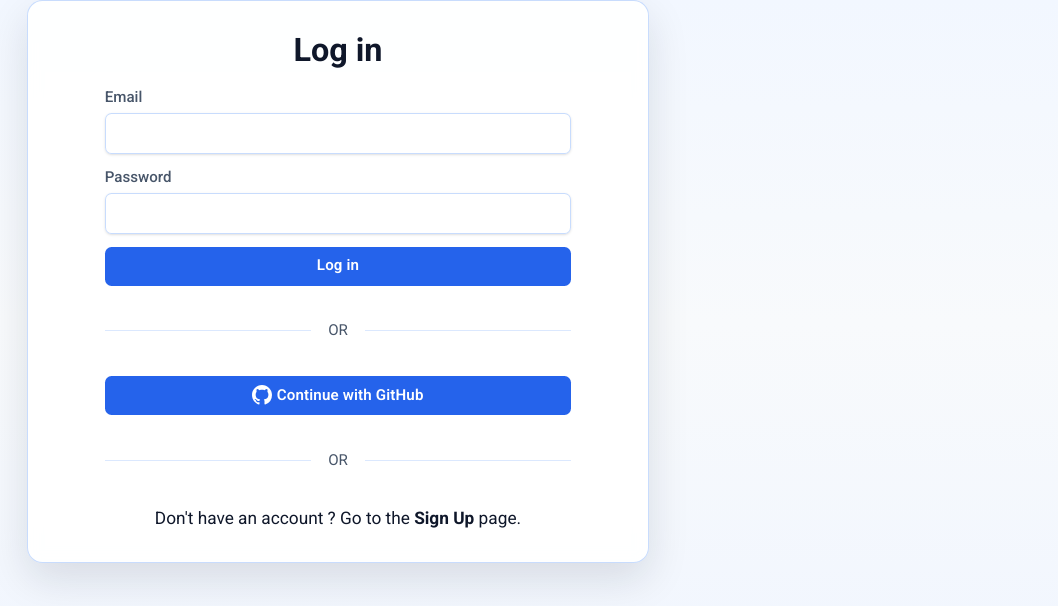
Test: LogIn Form Submit › Shows error message after clicking Create when fetching with wrong email/password
Type "existing@user.com" into the field labelled "Email" at [338, 134], box [105,113,571,154]
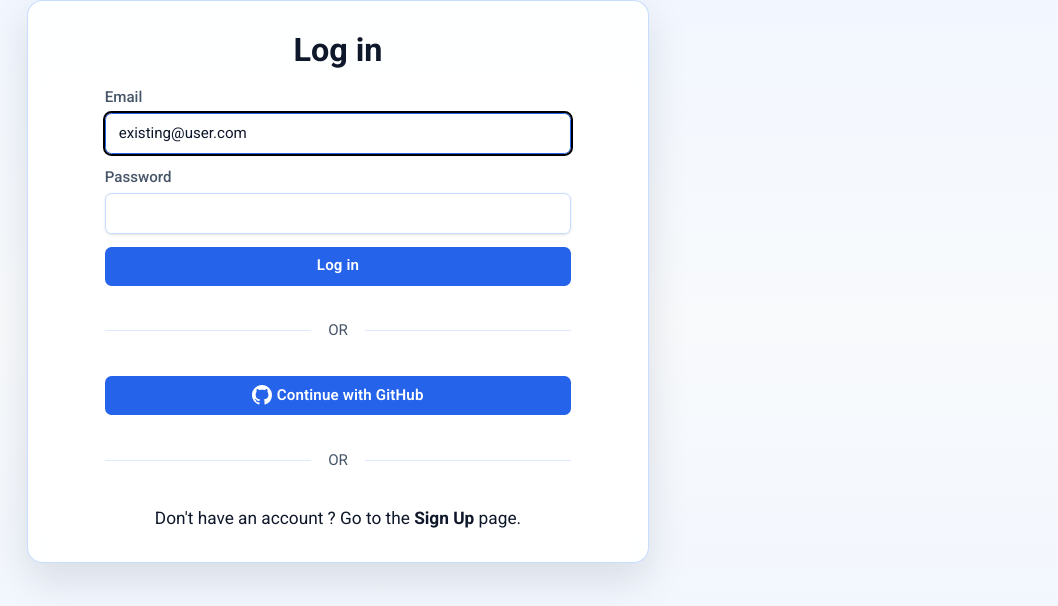
Type "Password123!" into the password field labelled "Password" at [338, 213], box [105,193,571,234]
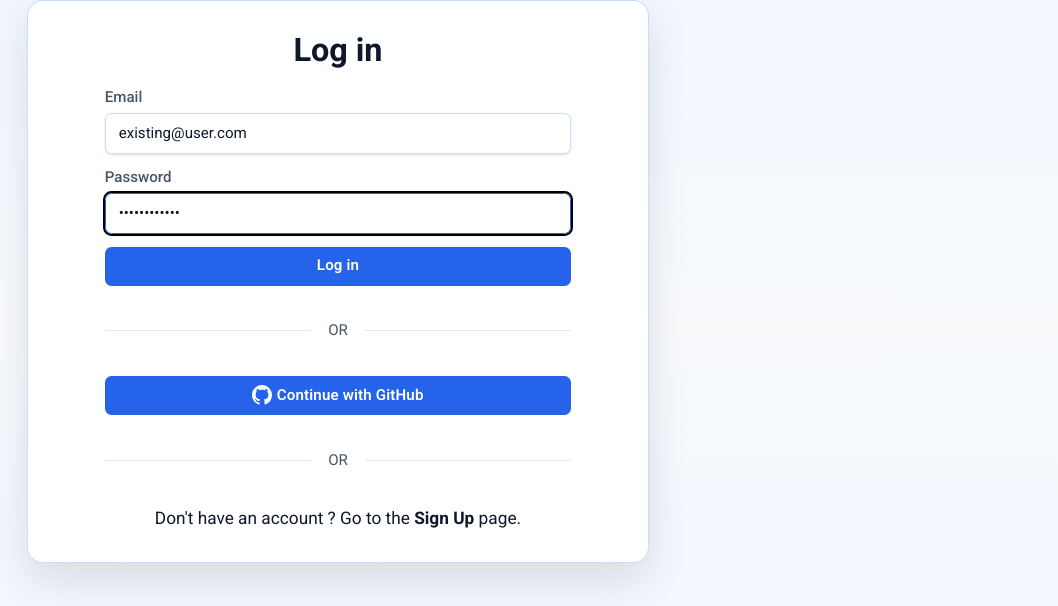
Click the button "Log in" at [338, 266], box [105,247,571,286]
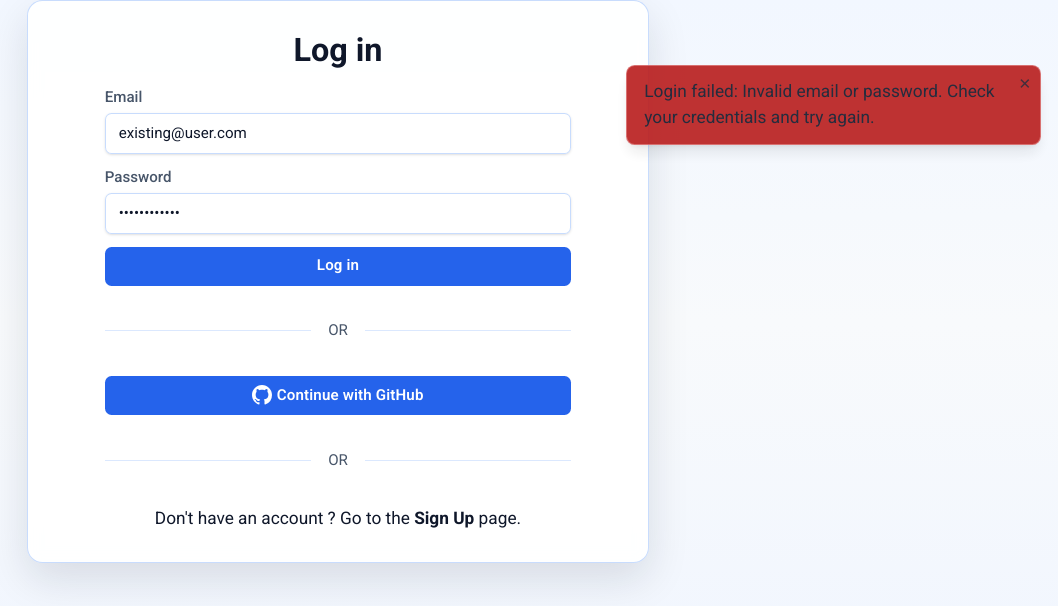
Expected: the text "Invalid email or password" is shown, [644,81,995,127]
